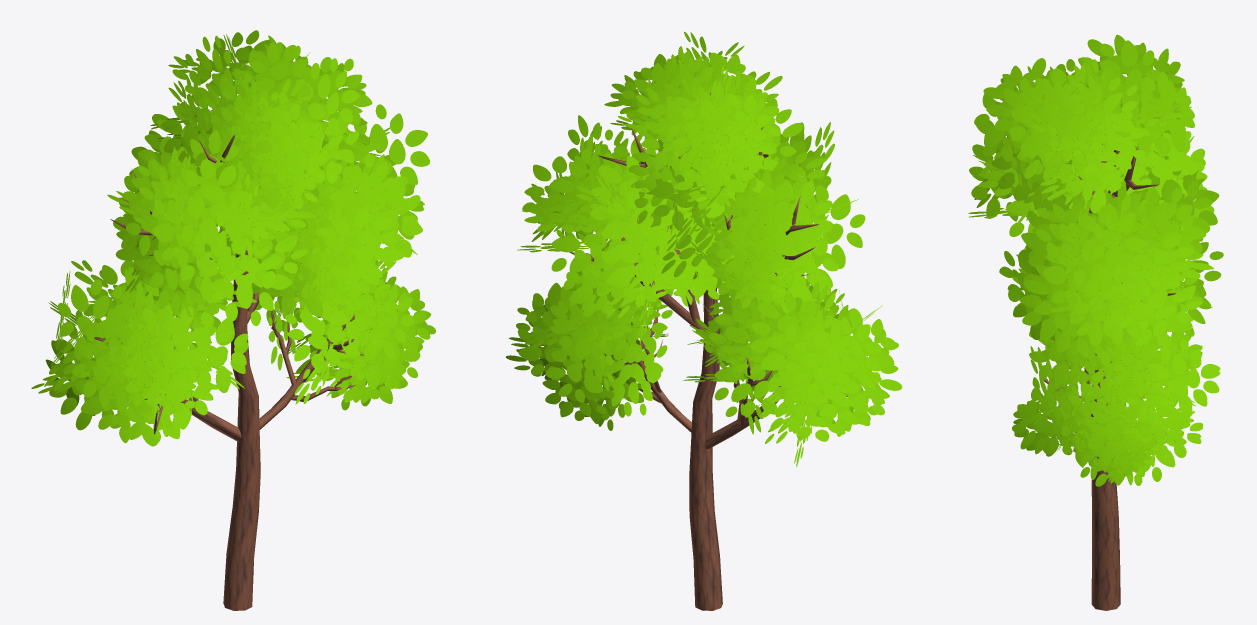
The model's file is tree_b.glb.
3 views of the same model, side by side, from view 1: azimuth 30°, elevation 25°; view 2: azimuth 150°, elevation 25°; view 3: azimuth 270°, elevation 25° (orthographic). The views are drawn at different scales.
Visible parts, largest first — view 1: NormalTree_2; view 2: NormalTree_2; view 3: NormalTree_2.
Boxes of the visible parts, bbox=[...] form: NormalTree_2: bbox=[31, 30, 435, 610]; NormalTree_2: bbox=[506, 31, 902, 610]; NormalTree_2: bbox=[968, 34, 1223, 610].
Size of the model in its own units: 5.39 by 7.47 by 3.43.
Materials: 2 (2 with a texture image).
